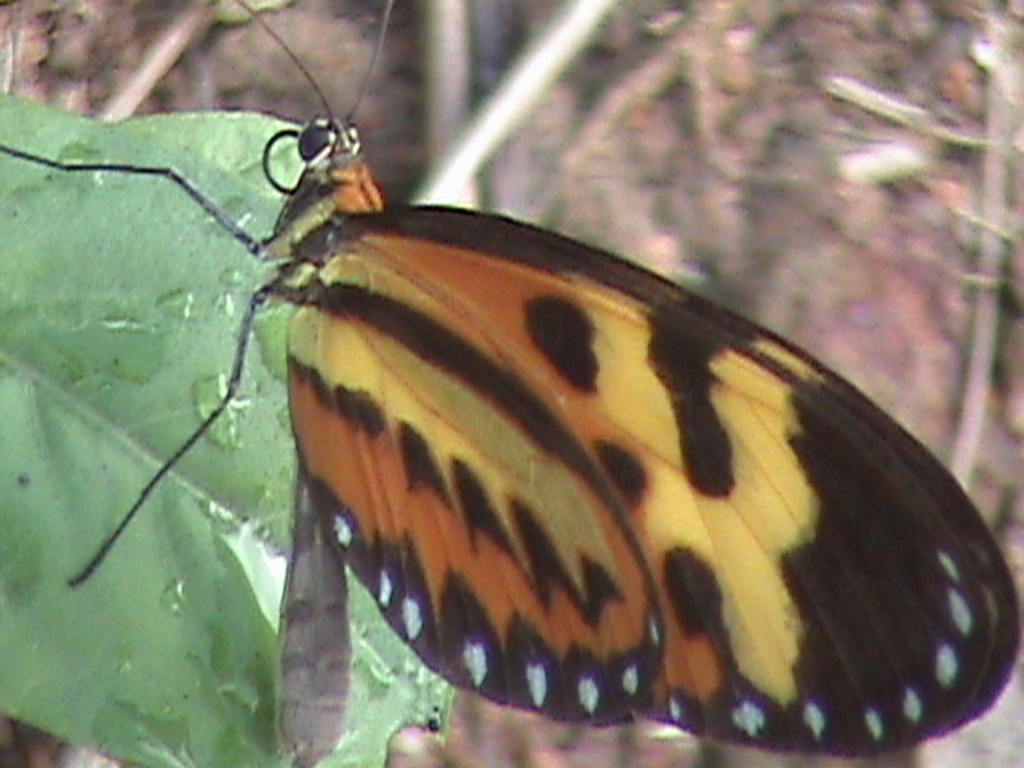Butterfly: (84, 76, 1024, 768)
